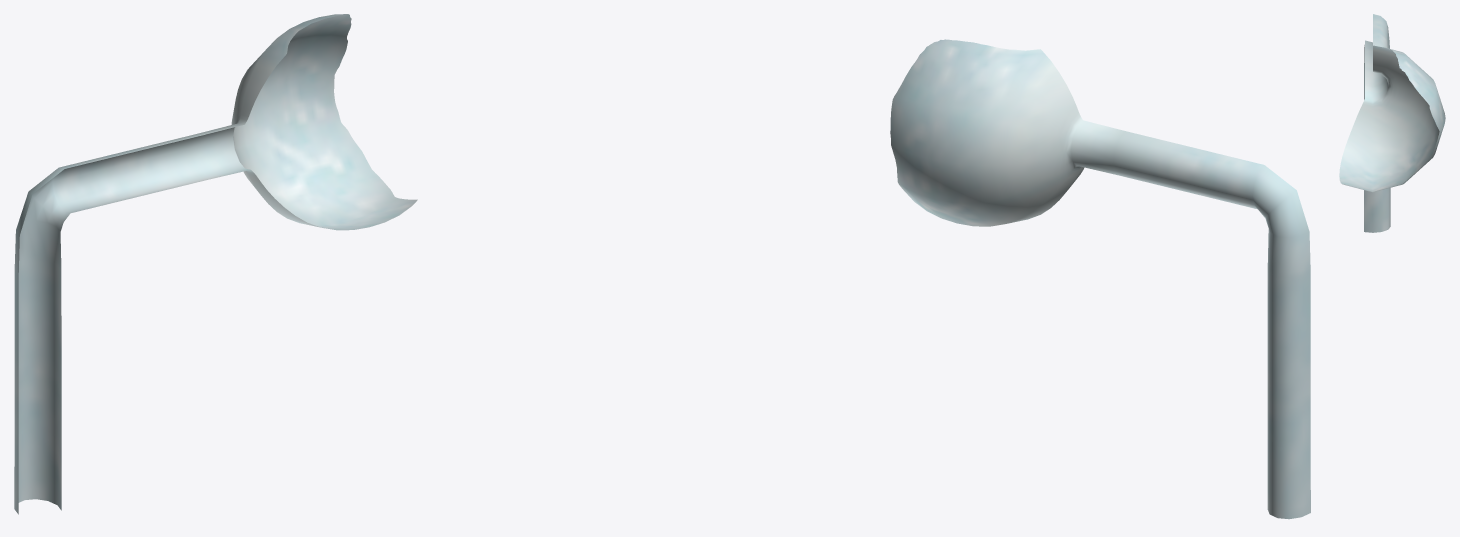
Rendered from shui1.FBX.
3 views of the same model, side by side, from view 1: azimuth 30°, elevation 25°; view 2: azimuth 150°, elevation 25°; view 3: azimuth 270°, elevation 25° (orthographic). The views are drawn at different scales.
Visible parts, largest first — view 1: shui1; view 2: shui1; view 3: shui1.
Part boxes in pixels (x1=…): shui1: x1=14, y1=14, x2=417, y2=514; shui1: x1=890, y1=39, x2=1310, y2=519; shui1: x1=1339, y1=14, x2=1445, y2=232.
Size of the model in its own units: 26.9 by 23.11 by 5.97.
